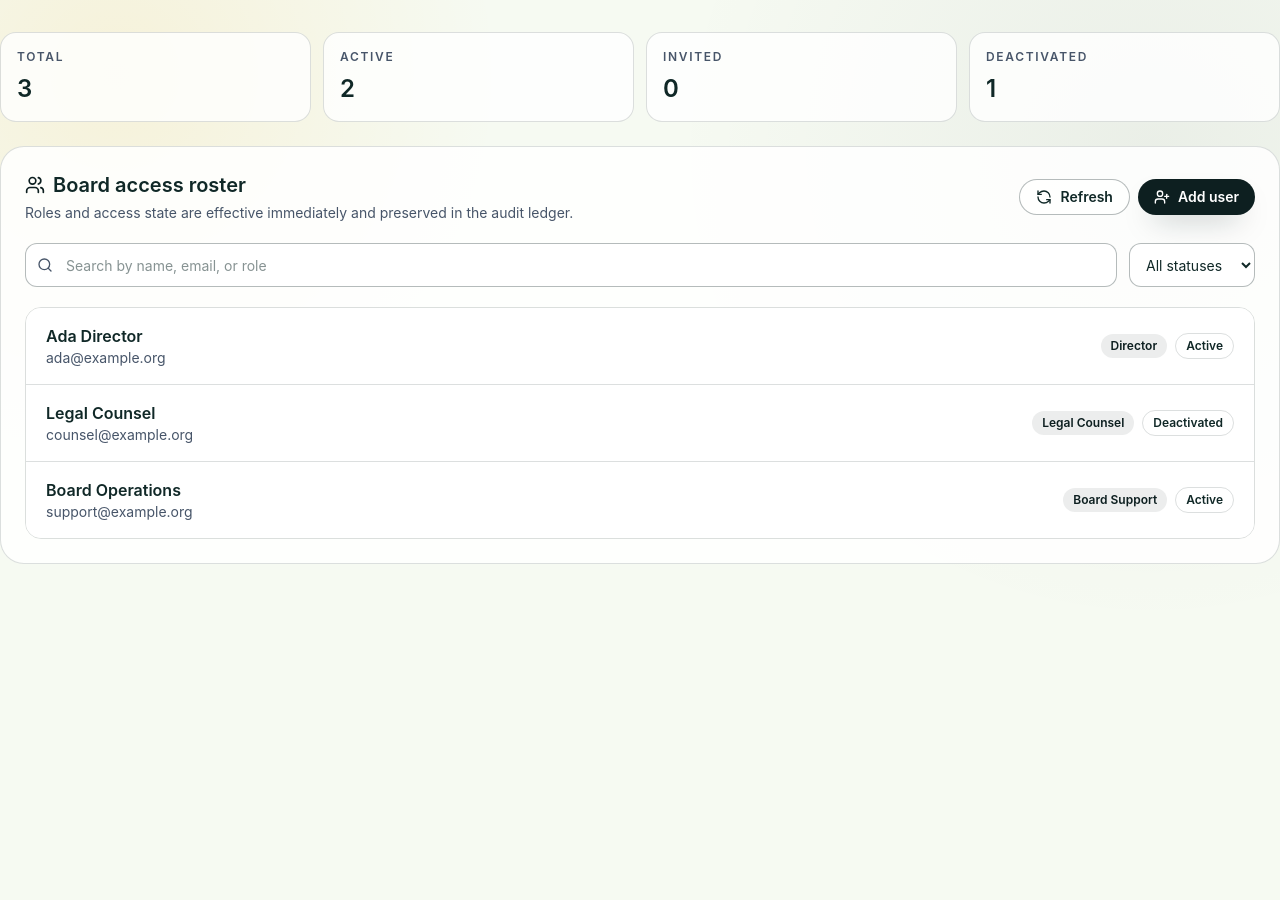
Test case: BoardUserManager › shows the welcome-email delivery result returned by user creation
The image size is (1280, 900).
Click the button "Add user" at (1196, 197), box [1138,179,1255,215]
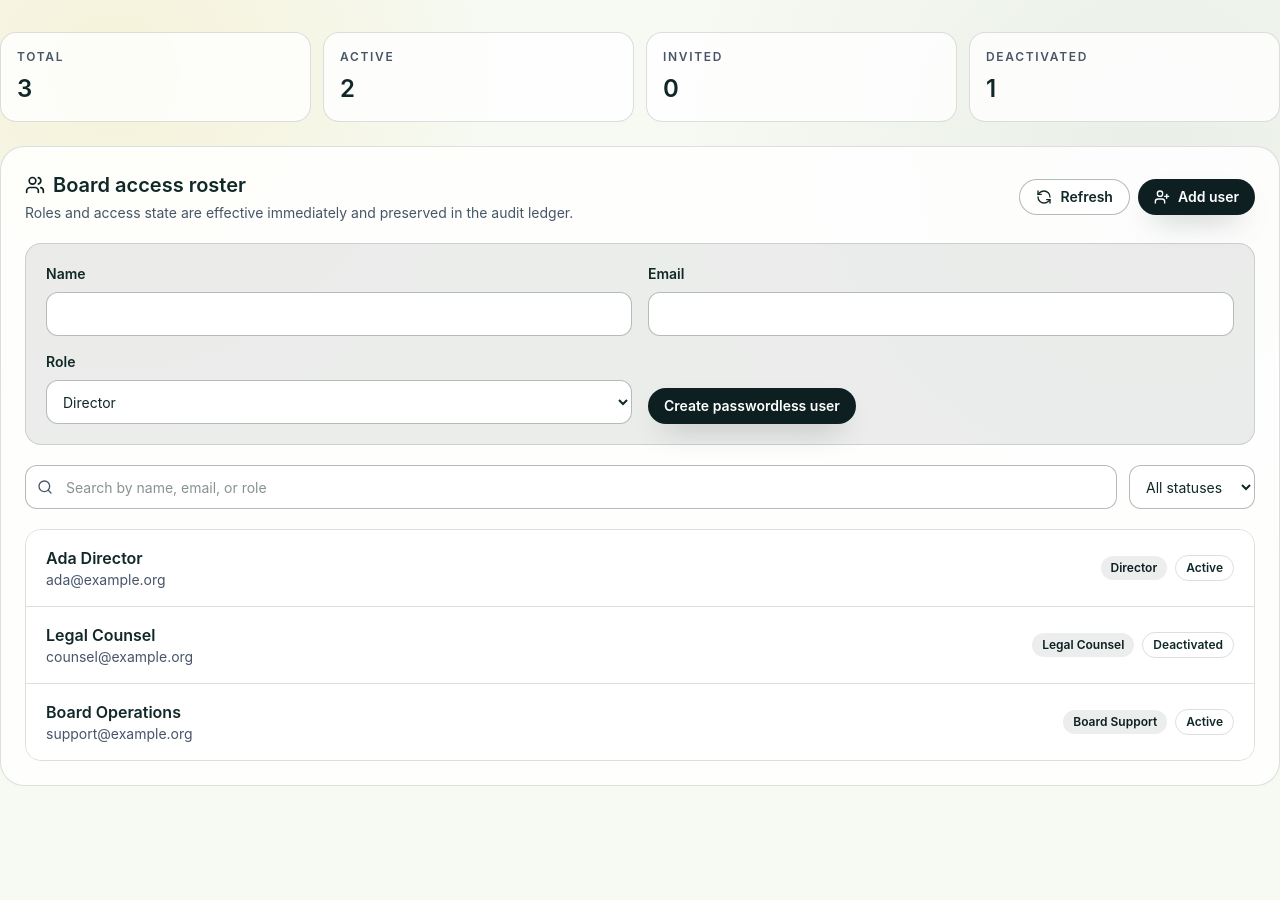
Type "New Director" into the field labelled "Name" at (339, 314), box [46,292,632,336]
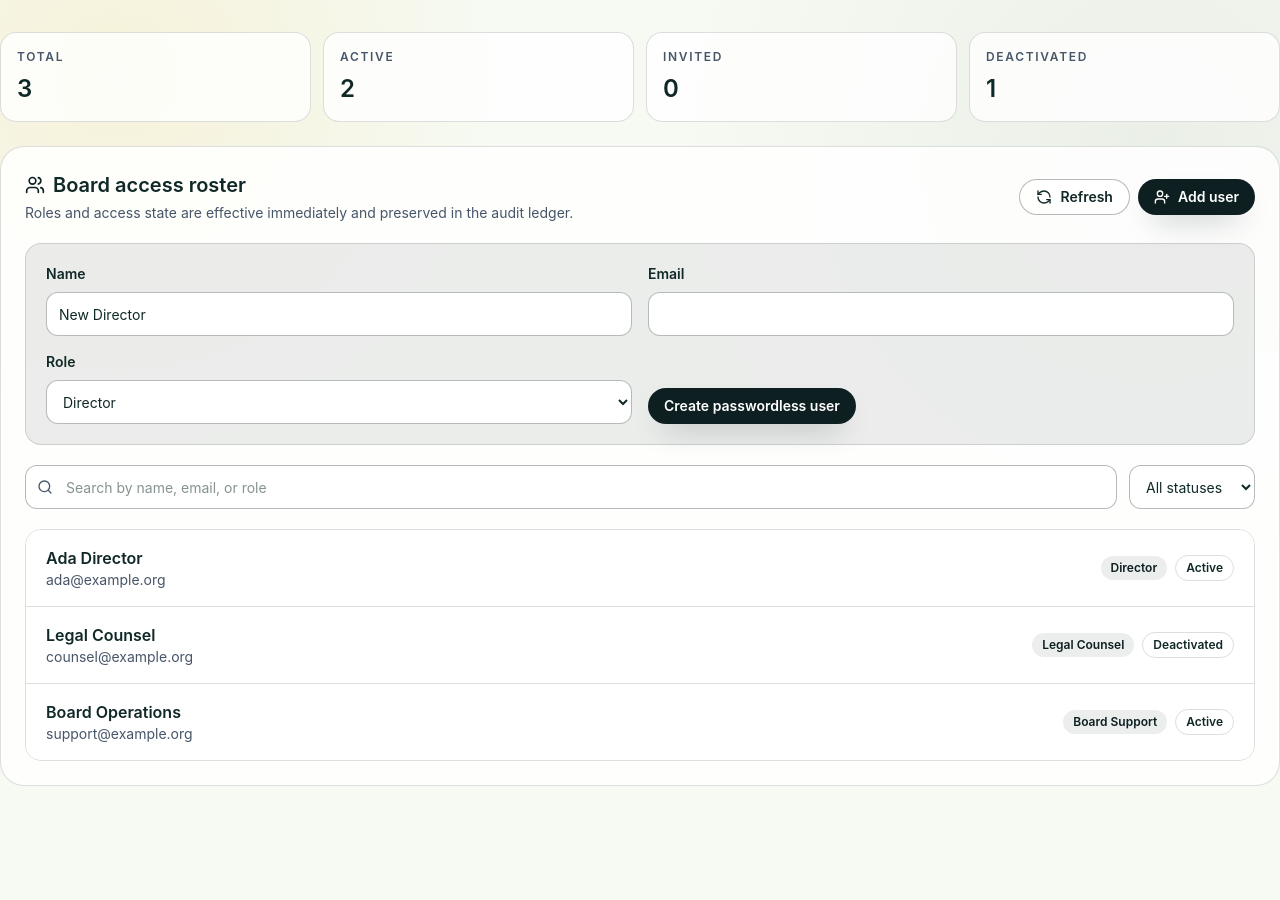
Type "new@example.org" into the field labelled "Email" at (941, 314), box [648,292,1234,336]
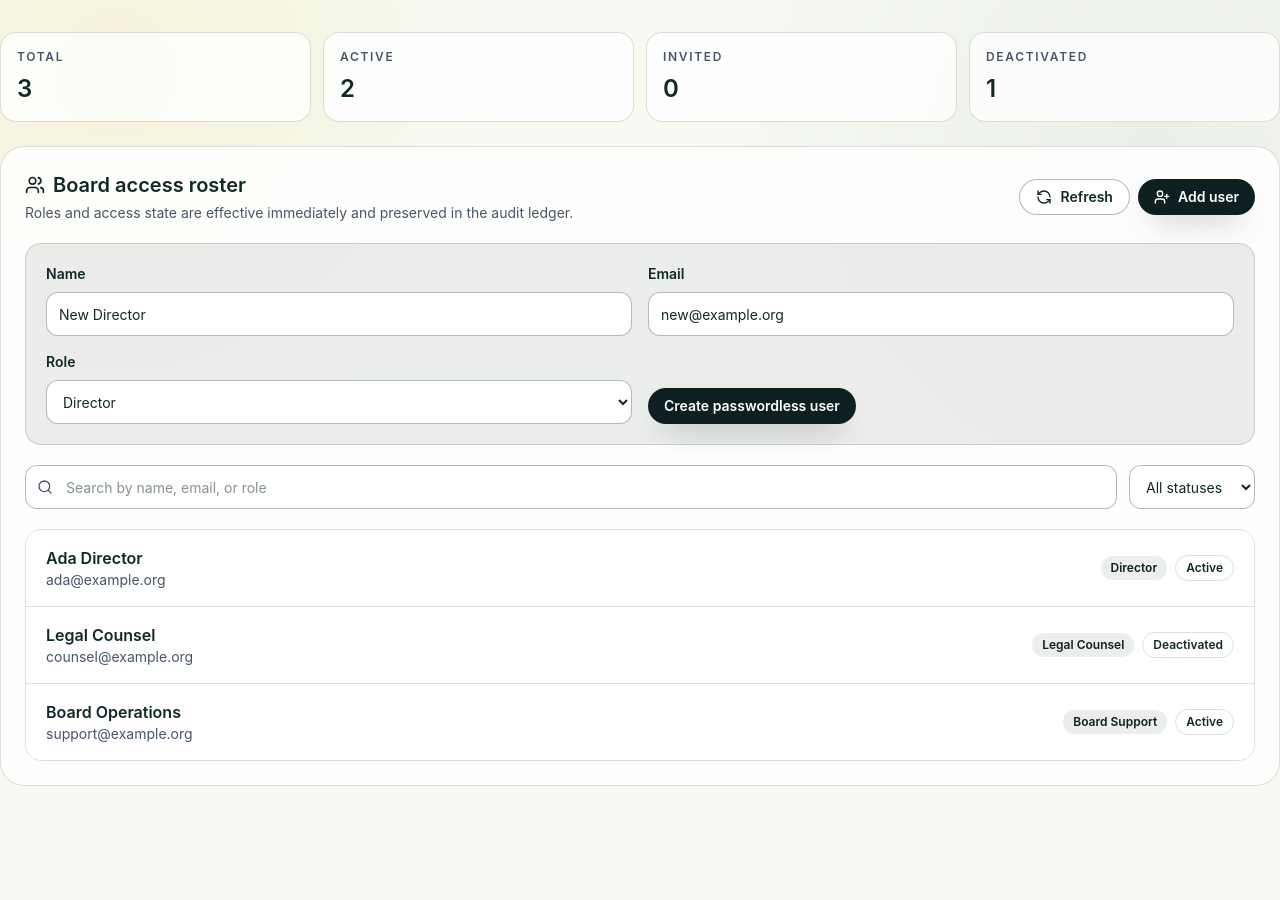
Click the button "Create passwordless user" at (752, 406), box [648,388,856,424]
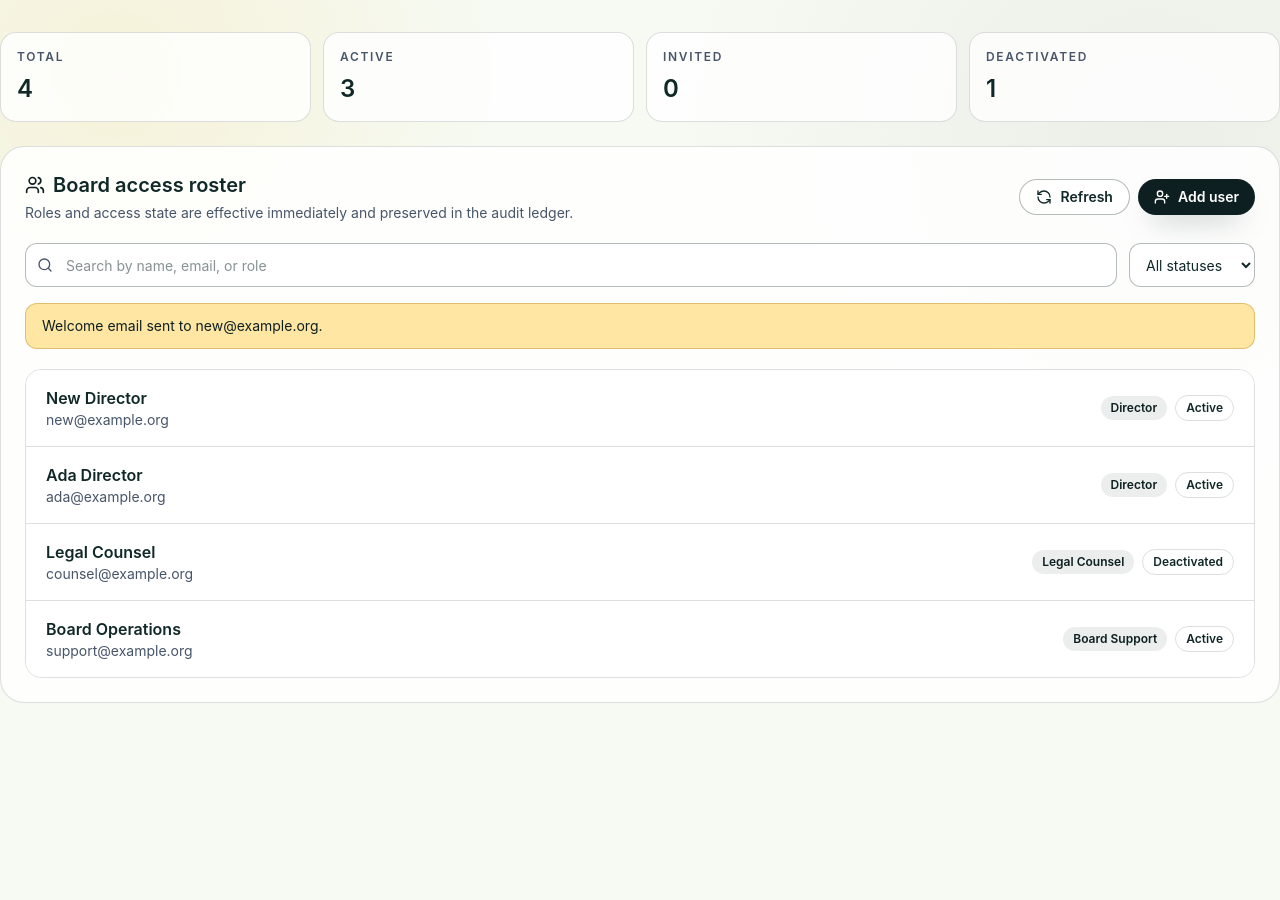
Expected: the message reads "Welcome email sent to new@example.org.", [42,317,322,334]
Expected: the text "New Director" is shown, [46,388,147,408]
